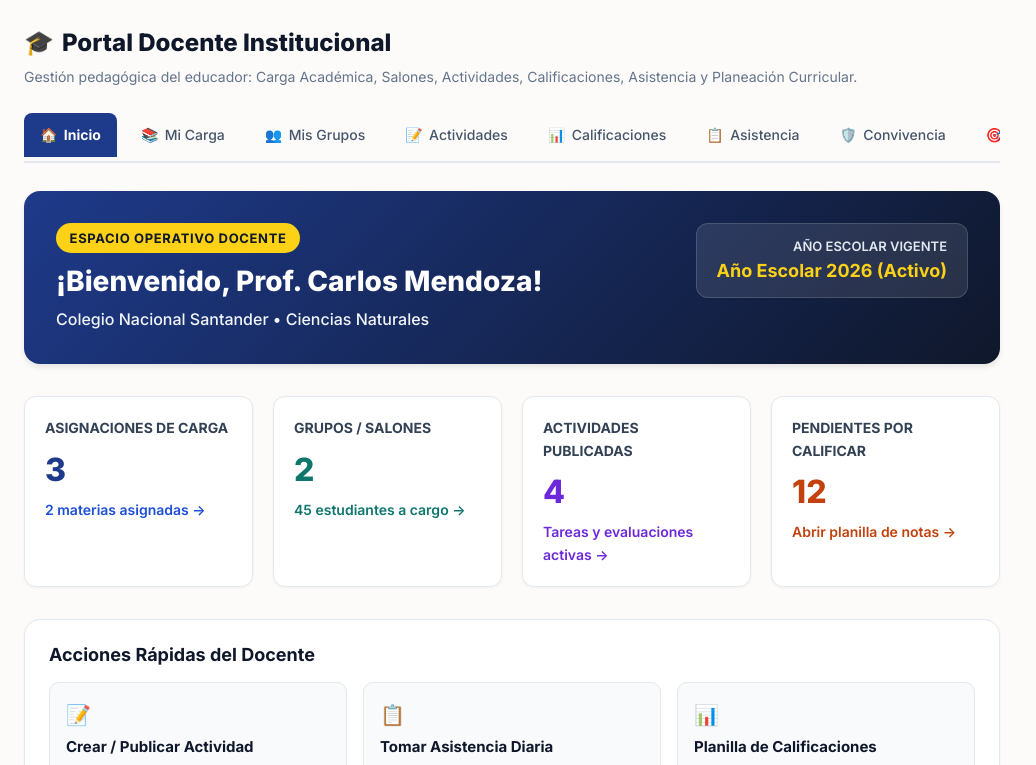
Test: TeacherPortal Component Tests › Phase B3: navigates contextually from Dashboard with status filter for published activities
The width and height of the screenshot is (1036, 765).
expect the heading "¡Bienvenido, Prof. Carlos Mendoza!" is shown: met, box [56,265,542,299]
// Click KPI card Actividades Publicadas
Click the element with test id "kpi-activities": (636, 492) [522,396,751,587]
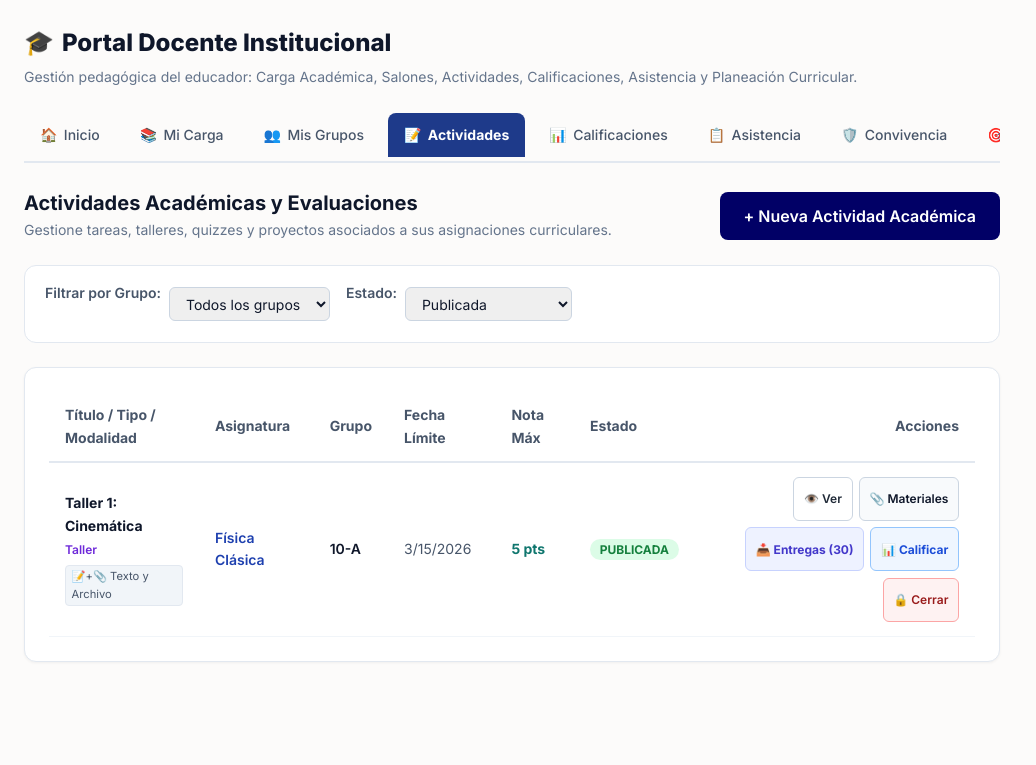
expect the heading "Actividades Académicas y Evaluaciones" is shown: met, box [24,191,418,215]
